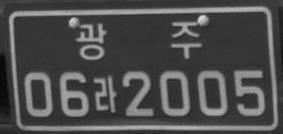0: (195, 69, 229, 115), (158, 69, 191, 116), (23, 70, 53, 117)
2: (121, 70, 153, 117)
5: (233, 69, 265, 116)
6: (59, 70, 89, 118)
광주_D: (76, 21, 202, 59)
라: (92, 75, 117, 113)
